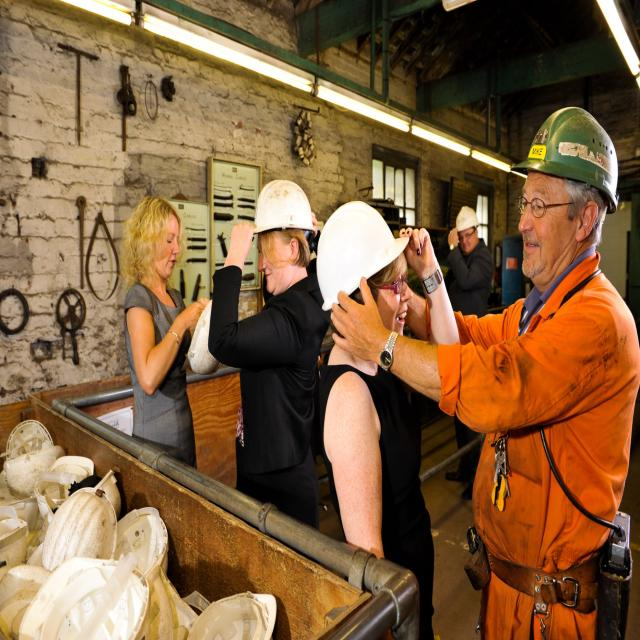body: (331, 106, 640, 639), (314, 202, 462, 640), (205, 176, 332, 534), (117, 193, 214, 472), (443, 204, 495, 483)
